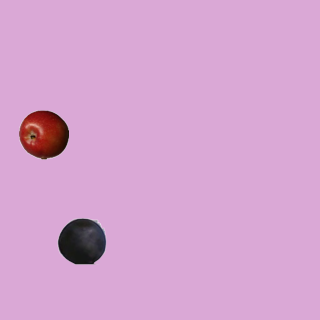Apple Braeburn: (18, 109, 68, 159)
Grape Blue: (56, 215, 106, 265)
